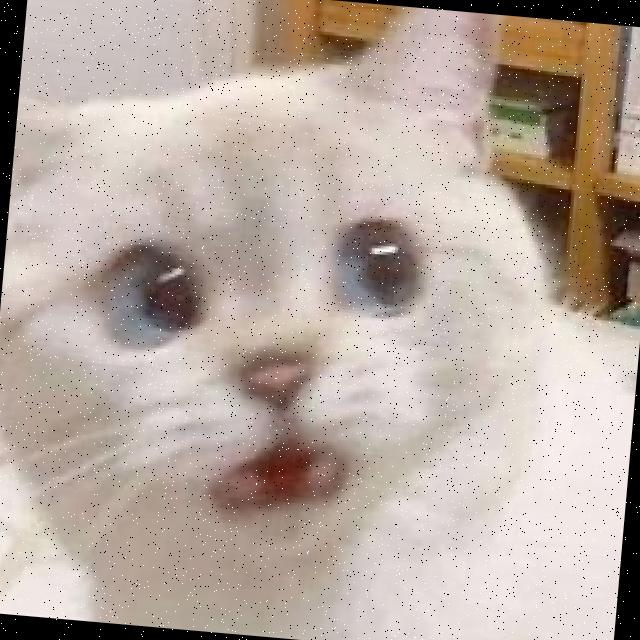Surprised: (26, 170, 494, 581)
